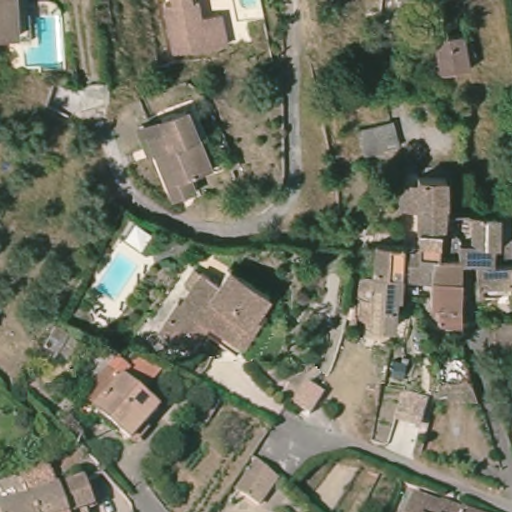pool: (16, 9, 67, 74), (93, 248, 137, 303)
